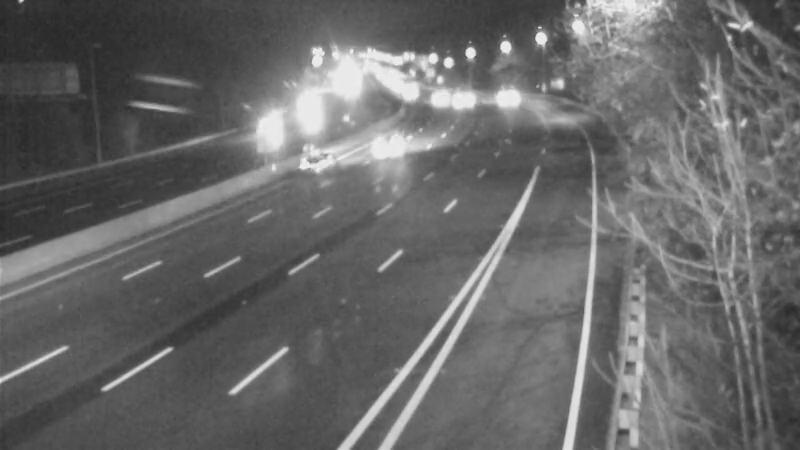vehicle: (274, 121, 354, 201), (477, 71, 527, 121), (385, 68, 435, 118), (408, 73, 458, 123), (425, 68, 475, 118), (367, 120, 417, 170), (235, 99, 285, 149), (282, 84, 332, 134)
